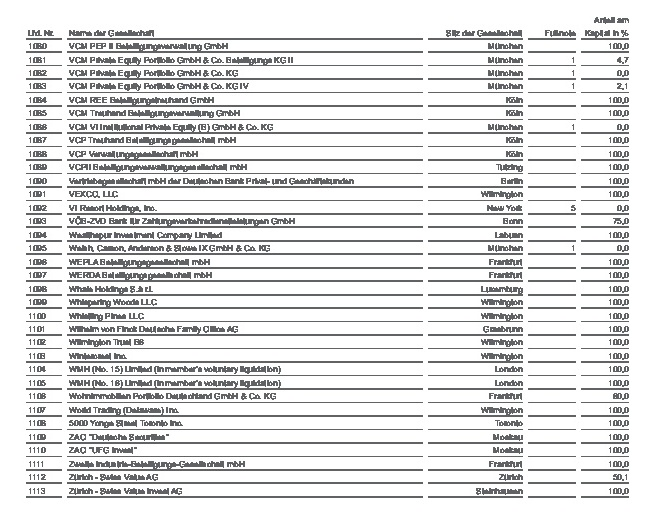table: (0, 0, 661, 532)
